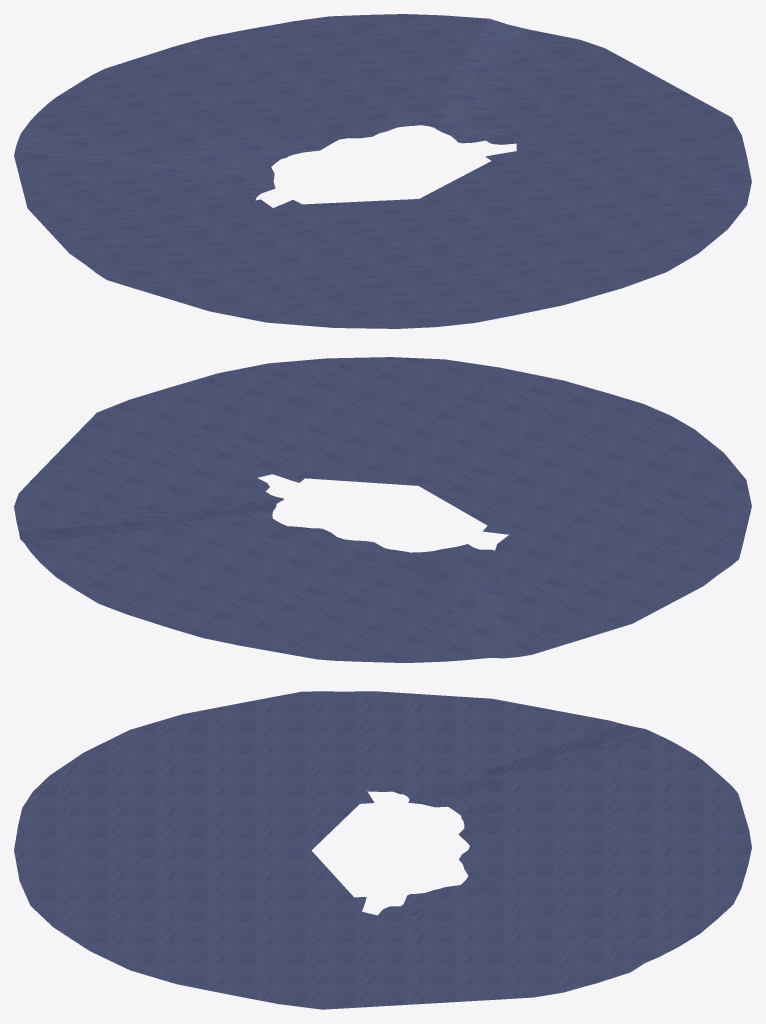
Rendered from pref_sm_beach_techsmall_WSJ_001_sea02_lv0.fbx.
The picture shows the model from 3 angles, top to bottom: view 1: azimuth 30°, elevation 25°; view 2: azimuth 150°, elevation 25°; view 3: azimuth 270°, elevation 25°; orthographic projection. The views are drawn at different scales.
Visible parts, largest first — view 1: pref_sm_beach_techsmall_WSJ_001_sea02_lv0; view 2: pref_sm_beach_techsmall_WSJ_001_sea02_lv0; view 3: pref_sm_beach_techsmall_WSJ_001_sea02_lv0.
Boxes of the visible parts, left/top/right/bottom form: pref_sm_beach_techsmall_WSJ_001_sea02_lv0: left=14, top=14, right=751, bottom=328; pref_sm_beach_techsmall_WSJ_001_sea02_lv0: left=14, top=357, right=751, bottom=662; pref_sm_beach_techsmall_WSJ_001_sea02_lv0: left=14, top=691, right=751, bottom=1009.
Size of the model in its own units: 373 by 4.55 by 365.
